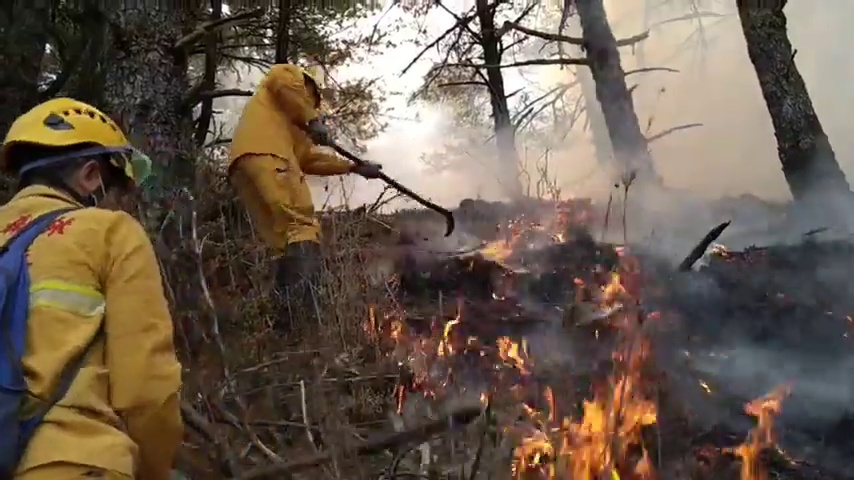fire: (507, 399, 616, 476), (738, 397, 776, 478), (618, 398, 652, 426), (497, 338, 519, 361), (606, 275, 622, 292), (444, 320, 451, 340)
